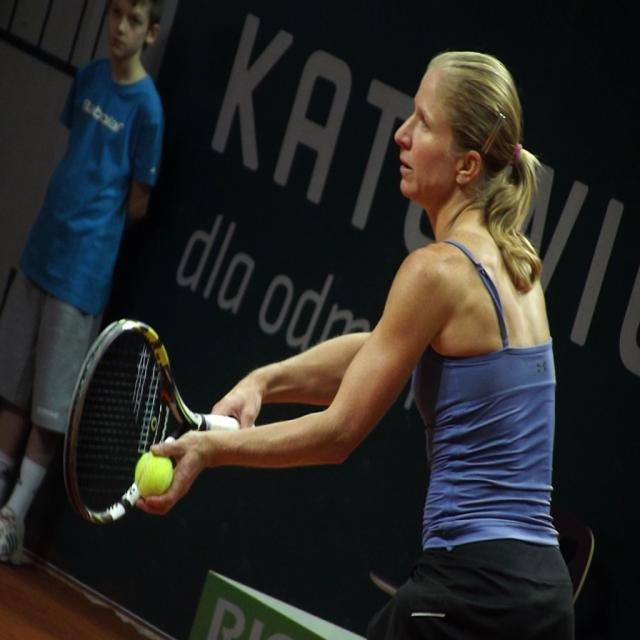Tennis ball: (135, 450, 172, 501)
